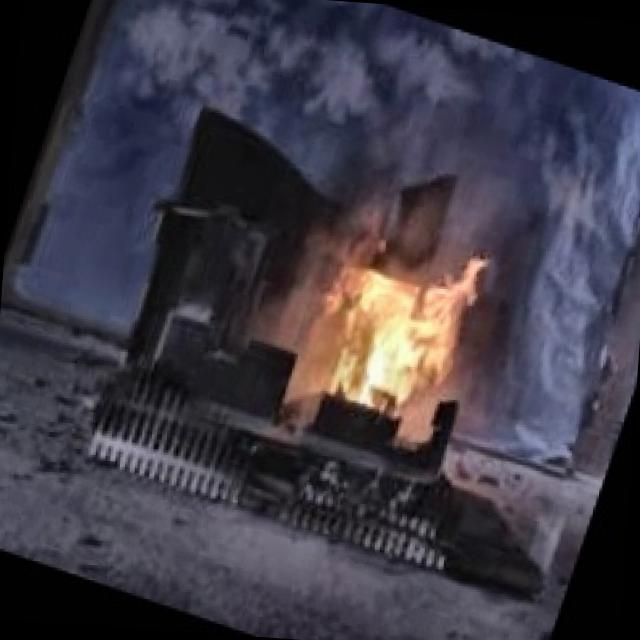fire: (282, 197, 520, 454)
